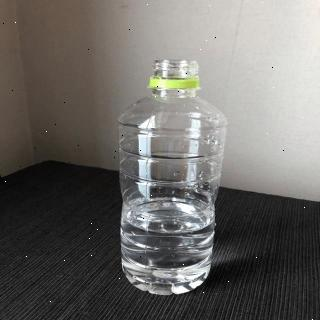Plastic-bottle: (113, 59, 231, 299)
